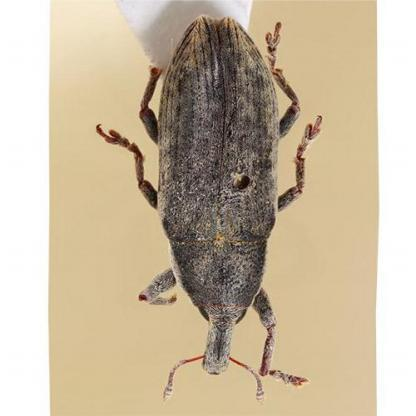rice-bug: (133, 14, 314, 390)
